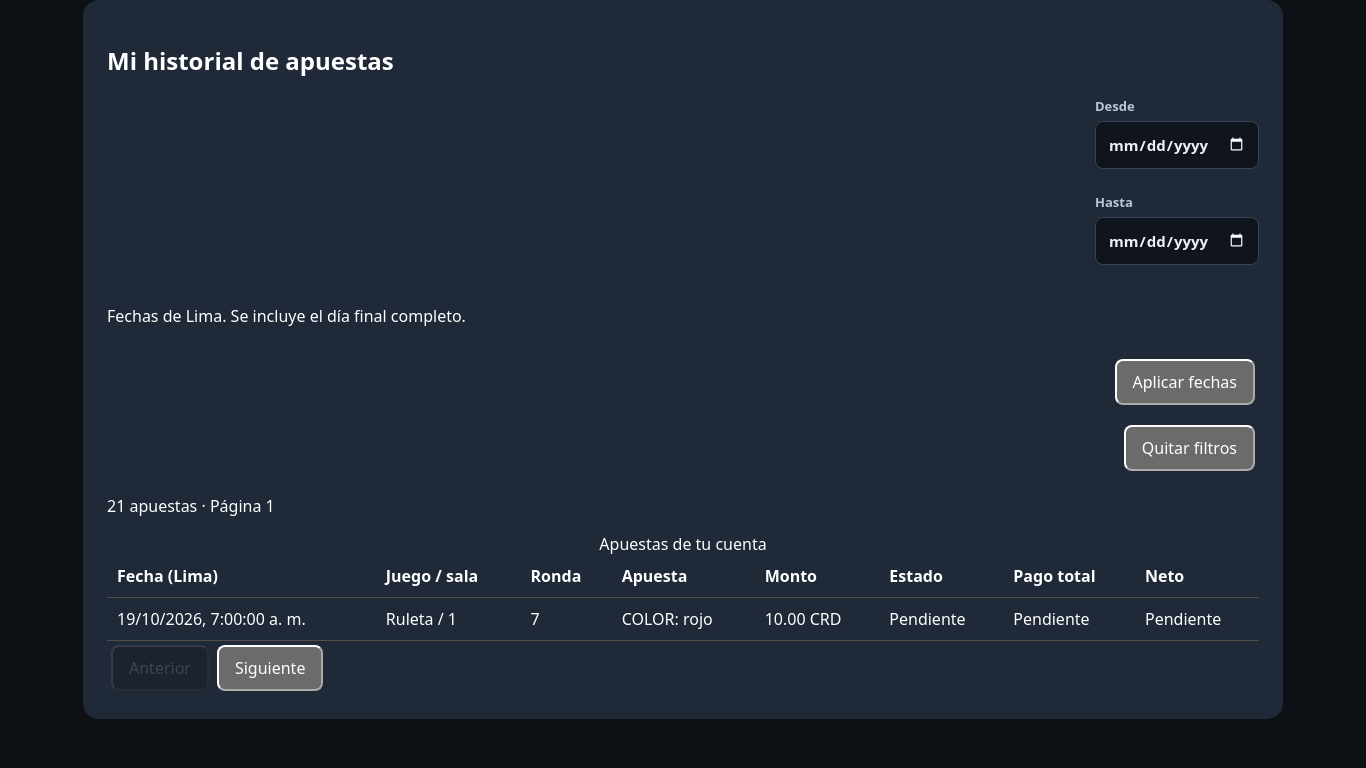
Test case: HU31 distingue pendientes y pagina sin aceptar URLs externas
Expected: the text "21 apuestas · Página 1" is shown, [107,495,275,517]
Expected: the text "Pendiente" is shown 3 times, [879,597,1003,640]; [1003,597,1135,640]; [1135,597,1259,640]
Click the button "Siguiente": click(270, 668) [217,645,323,691]
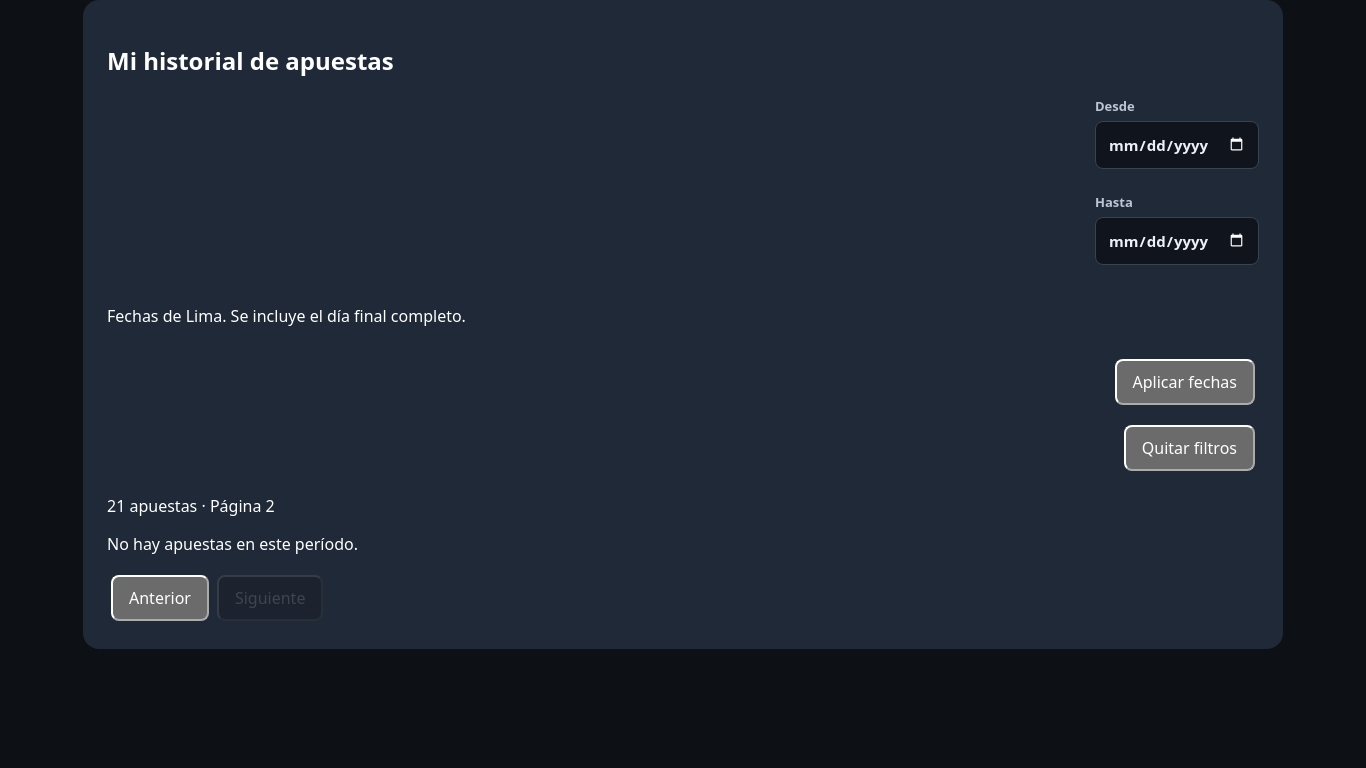
Expected: the text "21 apuestas · Página 2" is shown, [107,495,275,517]
